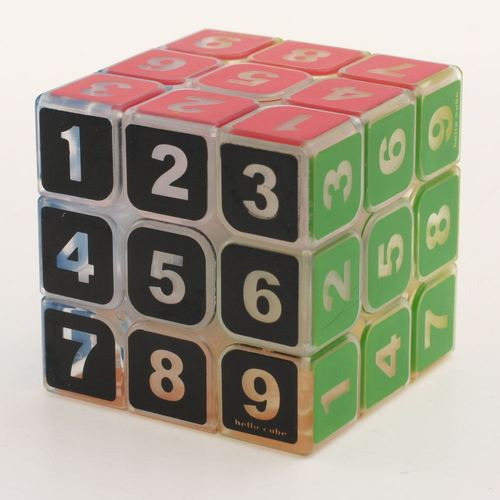cube: (22, 16, 477, 463)
